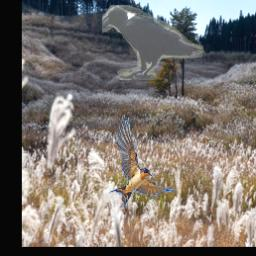Crow: (102, 5, 205, 80)
Swallow: (109, 116, 175, 208)
